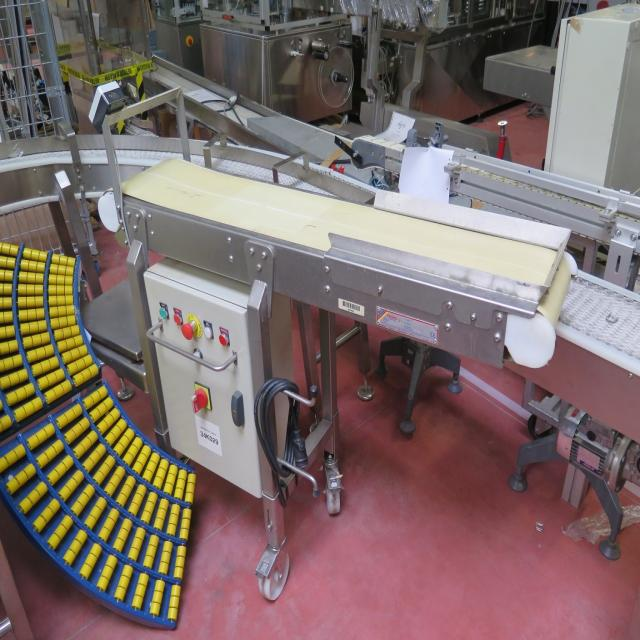Convoyeur: (0, 124, 640, 404), (118, 152, 567, 358), (0, 231, 200, 640), (120, 49, 343, 152)
